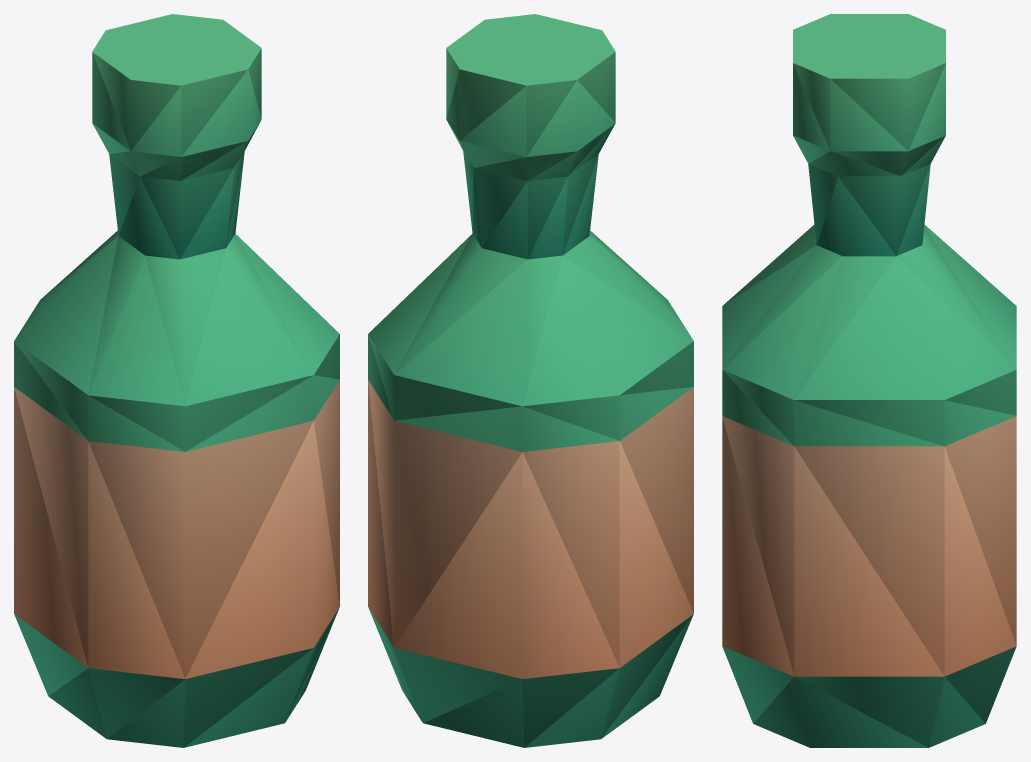
Rendered from pr_bottle.glb.
3 renders of one model, left to right at view 1: azimuth 30°, elevation 25°; view 2: azimuth 150°, elevation 25°; view 3: azimuth 270°, elevation 25°, orthographic.
Visible parts, largest first — view 1: bottle; view 2: bottle; view 3: bottle.
Boxes of the visible parts, <box> form: bottle: <box>14,14,339,747</box>; bottle: <box>368,14,693,747</box>; bottle: <box>722,14,1016,747</box>.
Bounding box in the file's own units: 0.3643 × 0.8905 × 0.3643.
Materials: 1 (1 with a texture image).
